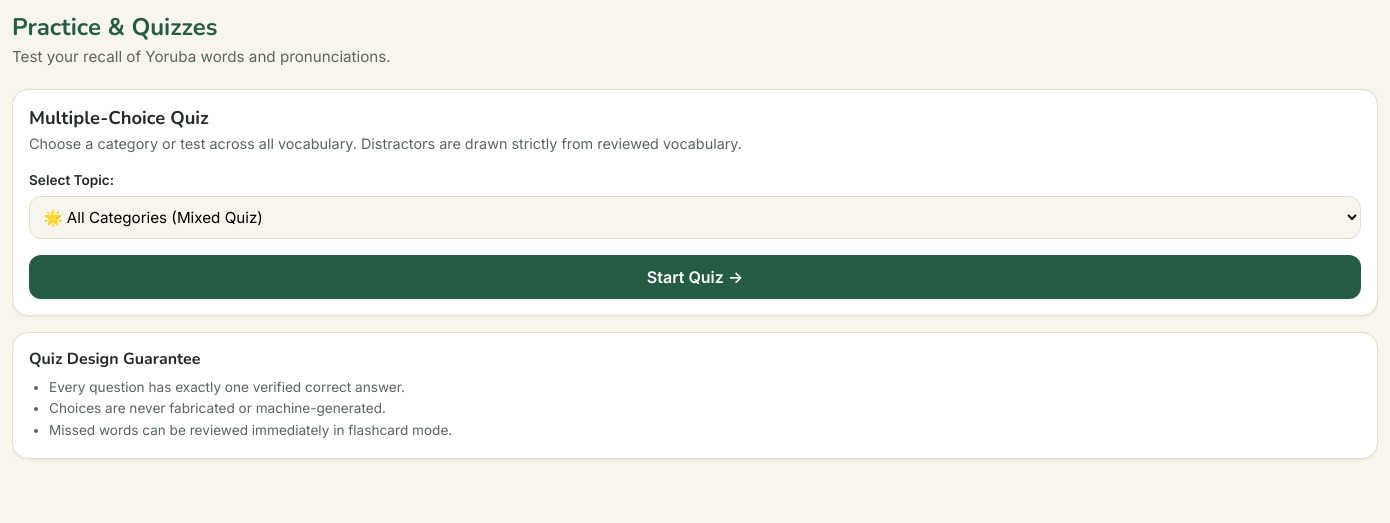
Test case: Practice & Quiz Screen Workflow › allows starting a quiz and displays the first question
Step 1. Click the button "Start Quiz →" → (695, 277), box [29, 255, 1361, 299]
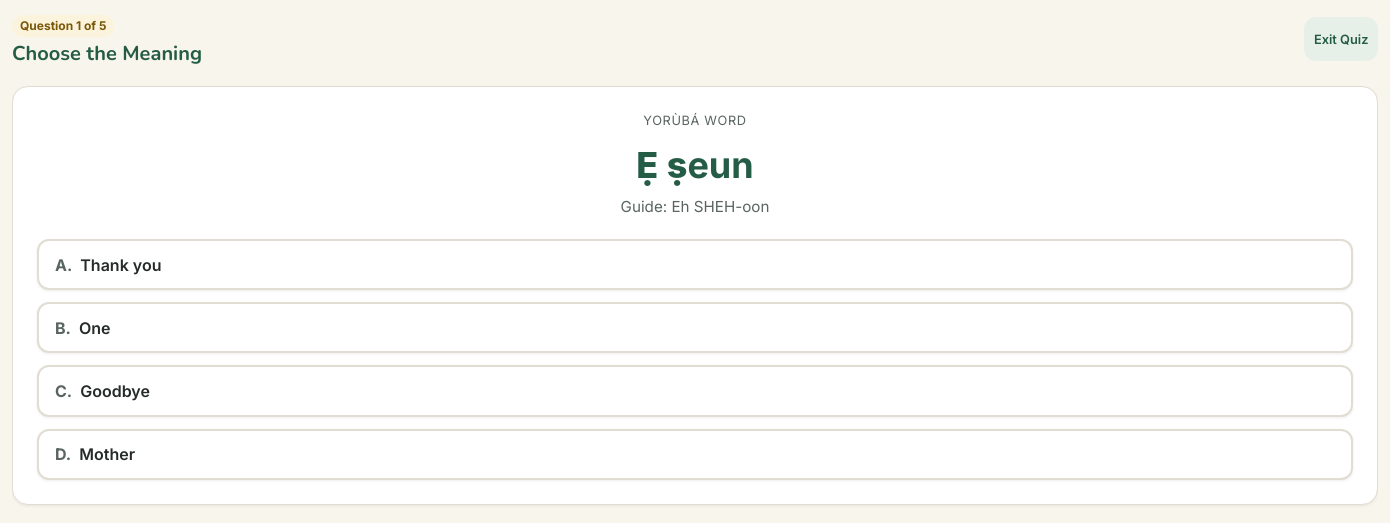
Now the text "Question 1 of 5" is shown, box [12, 15, 114, 37]
Now the heading "Choose the Meaning" is shown, box [12, 41, 202, 66]
